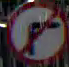Don't turn right: (7, 2, 65, 66)
